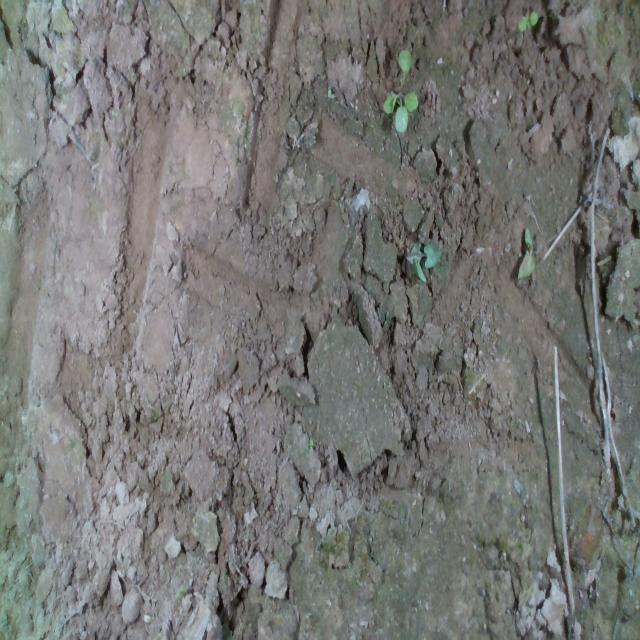weed: (381, 48, 418, 134), (406, 240, 442, 283), (517, 7, 537, 31)
